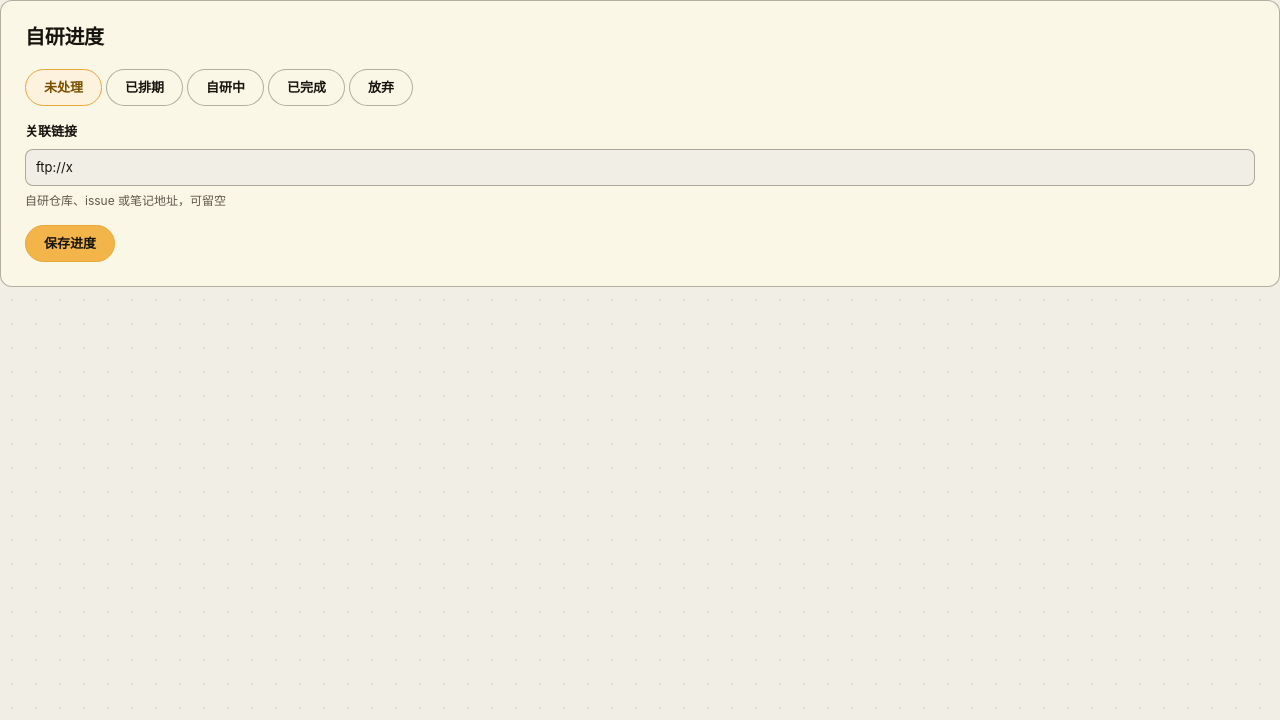
Test: ProgressControl › surfaces an invalid-link message without freezing the control
The width and height of the screenshot is (1280, 720).
Click the button "保存进度": (70, 243) [25,225,115,262]
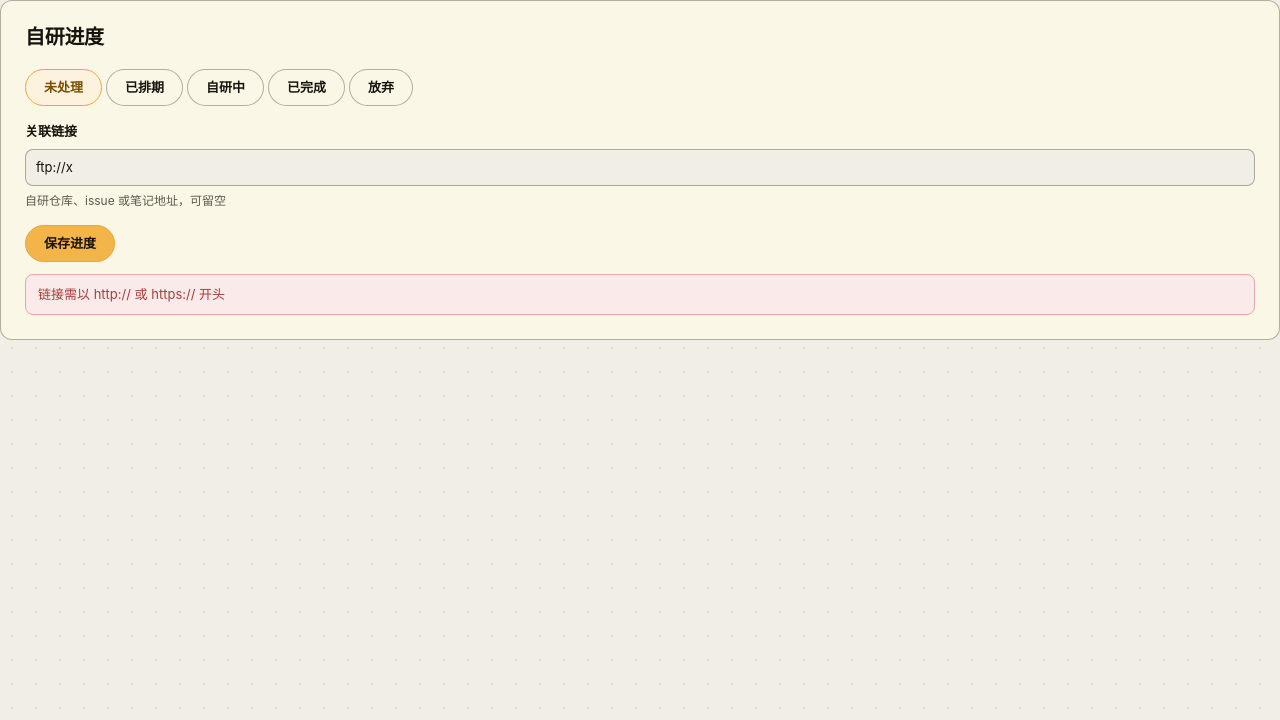
Expected: the text "链接需以 http:// 或 https:// 开头" is shown, [25,274,1255,315]
